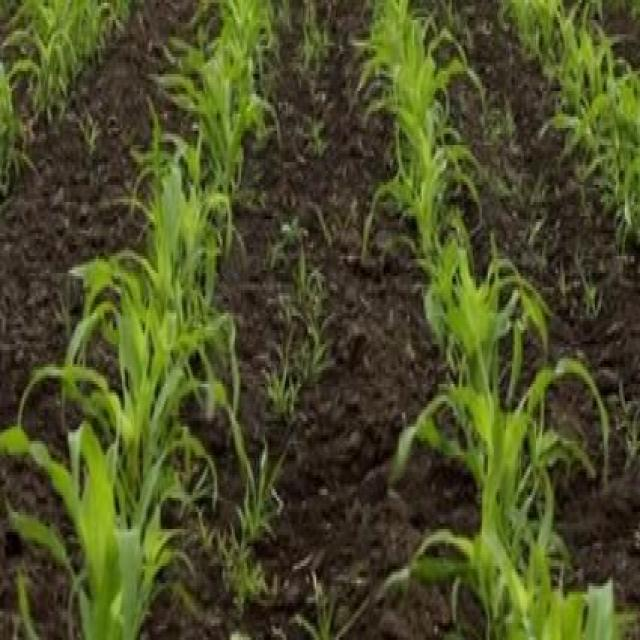row: (148, 0, 485, 640), (0, 2, 224, 640), (424, 0, 640, 640), (571, 2, 640, 96)
